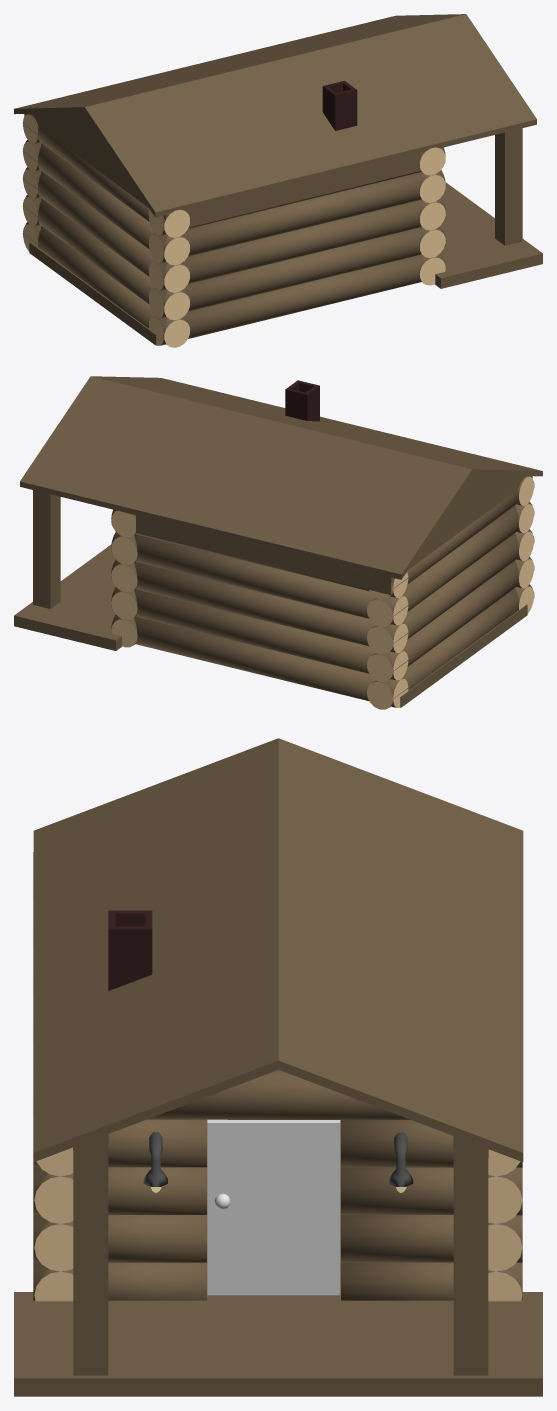
Rendered from Log Cabin.fbx.
3 renders of one model, top to bottom at view 1: azimuth 30°, elevation 25°; view 2: azimuth 150°, elevation 25°; view 3: azimuth 270°, elevation 25°, orthographic. The views are drawn at different scales.
Parts seen in each view (by area): view 1: Chimney, Front Wall; view 2: Chimney, Front Wall; view 3: Chimney, Front Wall, Door, Light.L.
Boxes of the visible parts, x1,y1,x2,y2 form: Chimney: (14, 14, 542, 345); Front Wall: (22, 114, 445, 347); Chimney: (14, 376, 542, 707); Front Wall: (111, 476, 534, 709); Chimney: (14, 738, 542, 1396); Front Wall: (33, 852, 522, 1301); Door: (207, 1119, 340, 1295); Light.L: (143, 1132, 413, 1192).
Bounding box in the file's own units: 747 × 363 × 518.
